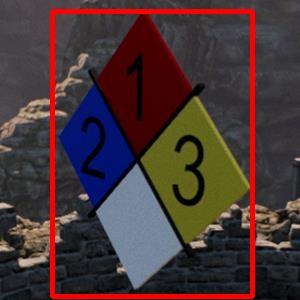nfpa: (52, 11, 252, 296)
